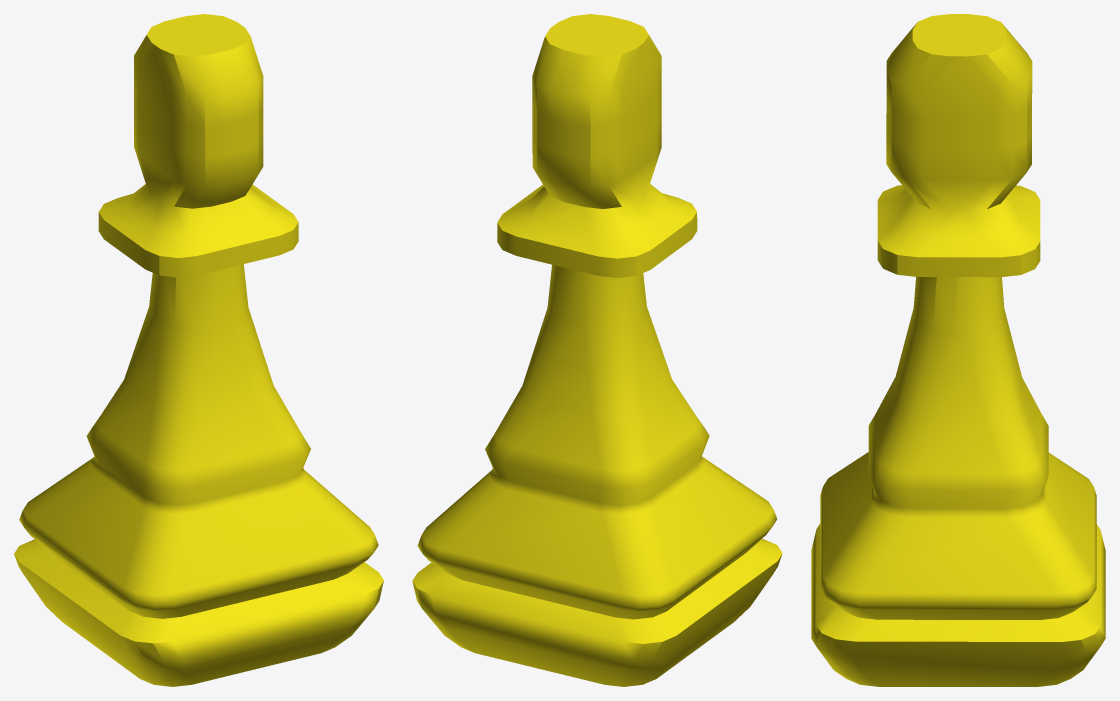
The model's file is mono_piyon.fbx.
3 views of the same model, side by side, from view 1: azimuth 30°, elevation 25°; view 2: azimuth 150°, elevation 25°; view 3: azimuth 270°, elevation 25° (orthographic). The views are drawn at different scales.
Parts seen in each view (by area): view 1: Cube; view 2: Cube; view 3: Cube.
Part boxes in pixels (x1,y1,x2,y2): Cube: (14,14,383,686); Cube: (412,14,782,686); Cube: (811,14,1105,686).
Bounding box in the file's own units: 8.32 × 18.17 × 8.03.
